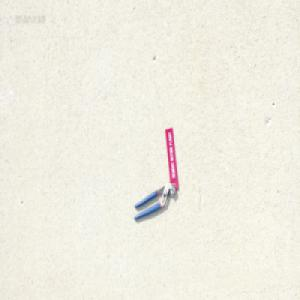Label: (165, 126, 178, 189)
Pliers: (133, 182, 176, 220)
